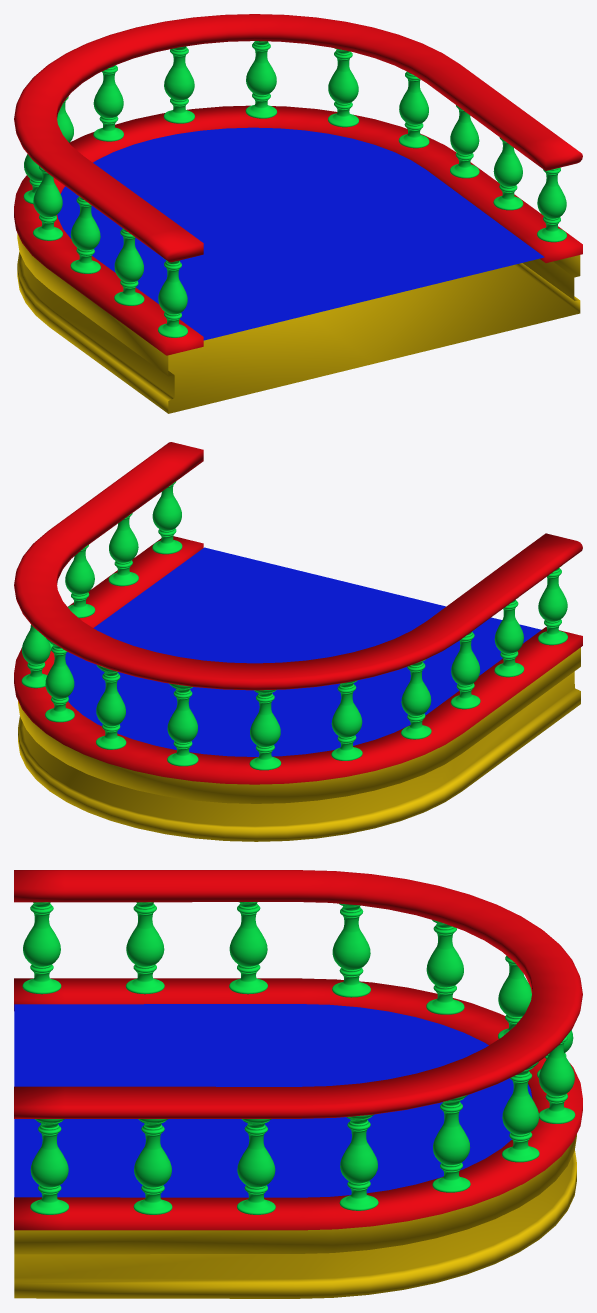
The model's file is Balcon.fbx.
The picture shows the model from 3 angles, top to bottom: view 1: azimuth 30°, elevation 25°; view 2: azimuth 150°, elevation 25°; view 3: azimuth 270°, elevation 25°; orthographic projection. The views are drawn at different scales.
Parts seen in each view (by area): view 1: Rembarde.002, Sole.001, Balcon sol.001; view 2: Rembarde.002, Sole.001, Balcon sol.001; view 3: Rembarde.002, Sole.001, Balcon sol.001.
Part boxes in pixels (<box>): Rembarde.002: <box>14,14,582,355</box>; Sole.001: <box>57,127,544,340</box>; Balcon sol.001: <box>17,233,580,413</box>; Rembarde.002: <box>14,442,582,784</box>; Sole.001: <box>65,547,541,756</box>; Balcon sol.001: <box>18,647,580,841</box>; Rembarde.002: <box>14,870,582,1230</box>; Sole.001: <box>14,1004,532,1197</box>; Balcon sol.001: <box>14,1134,576,1298</box>.
Size of the model in its own units: 300 by 112 by 300.
